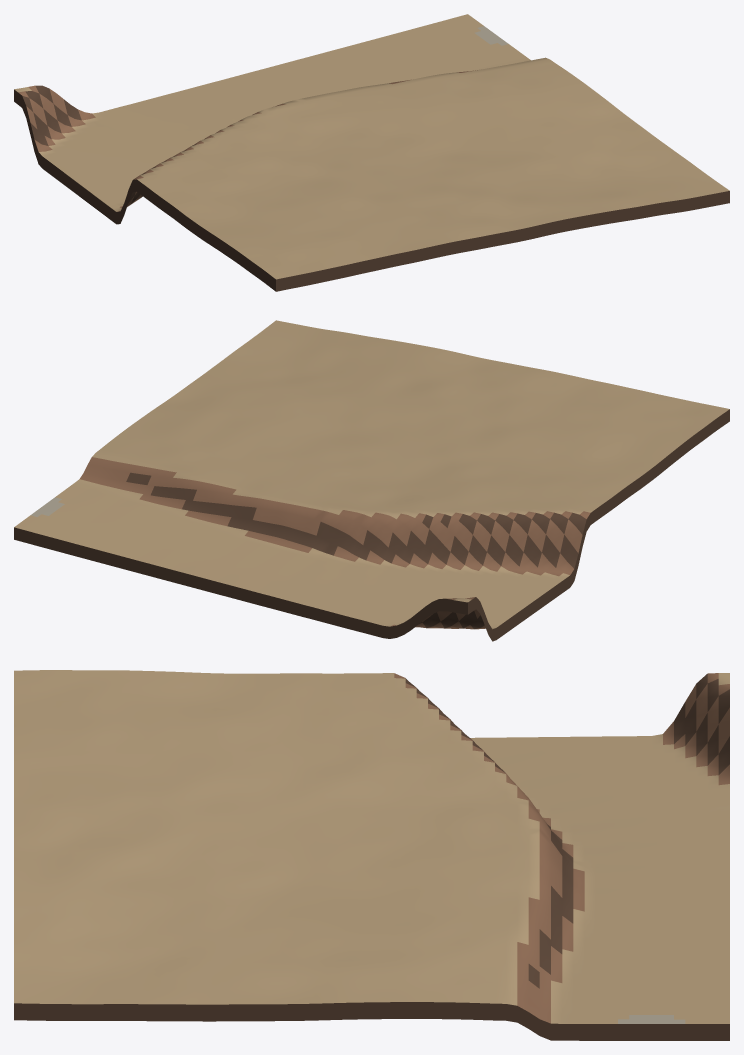
File: Terrain_04_05.fbx
The picture shows the model from 3 angles, top to bottom: view 1: azimuth 30°, elevation 25°; view 2: azimuth 150°, elevation 25°; view 3: azimuth 270°, elevation 25°; orthographic projection. The views are drawn at different scales.
Parts seen in each view (by area): view 1: Terrain_04_05_LOD0; view 2: Terrain_04_05_LOD0; view 3: Terrain_04_05_LOD0.
Boxes of the visible parts, bbox=[...] form: Terrain_04_05_LOD0: bbox=[14, 14, 729, 291]; Terrain_04_05_LOD0: bbox=[14, 320, 729, 641]; Terrain_04_05_LOD0: bbox=[14, 670, 729, 1040].
Size of what is drawn, in the model's own units: 384 by 50.28 by 384.
